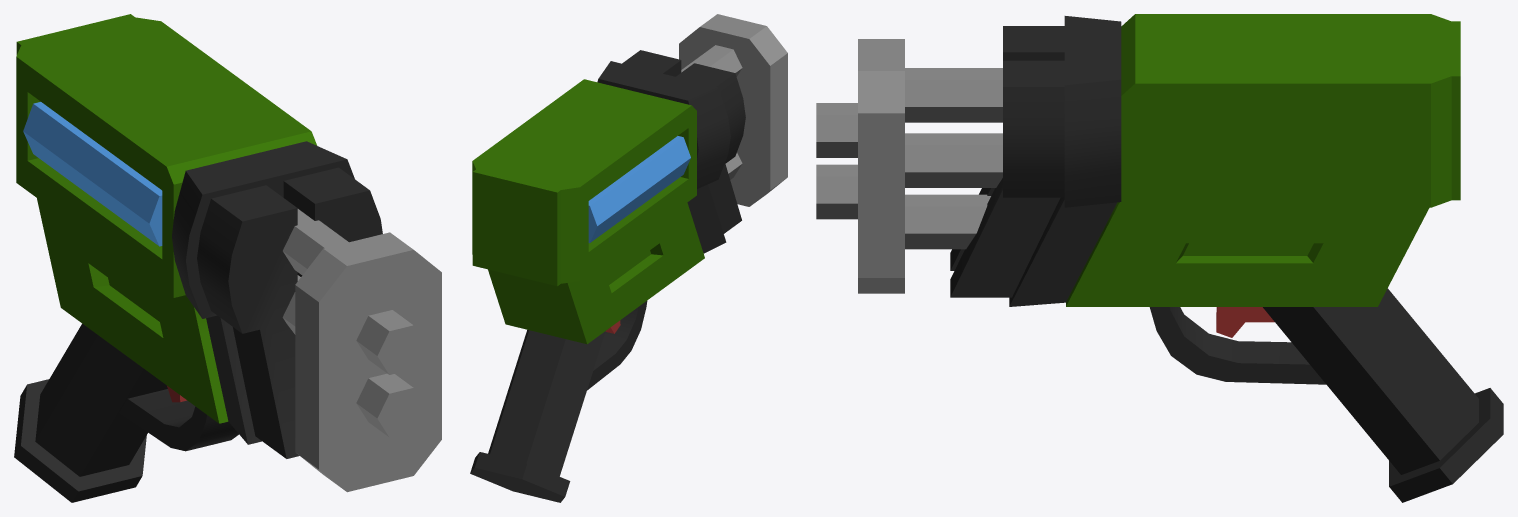
File: GUN.fbx
The picture shows the model from 3 angles, left to right: view 1: azimuth 30°, elevation 25°; view 2: azimuth 150°, elevation 25°; view 3: azimuth 270°, elevation 25°; orthographic projection. The views are drawn at different scales.
Parts seen in each view (by area): view 1: Plane.006; view 2: Plane.006; view 3: Plane.006.
Part boxes in pixels (left/top/right/bottom): Plane.006: left=14, top=14, right=441, bottom=502; Plane.006: left=470, top=14, right=787, bottom=502; Plane.006: left=816, top=14, right=1503, bottom=502.
Bounding box in the file's own units: 10.35 × 24.73 × 35.11.
